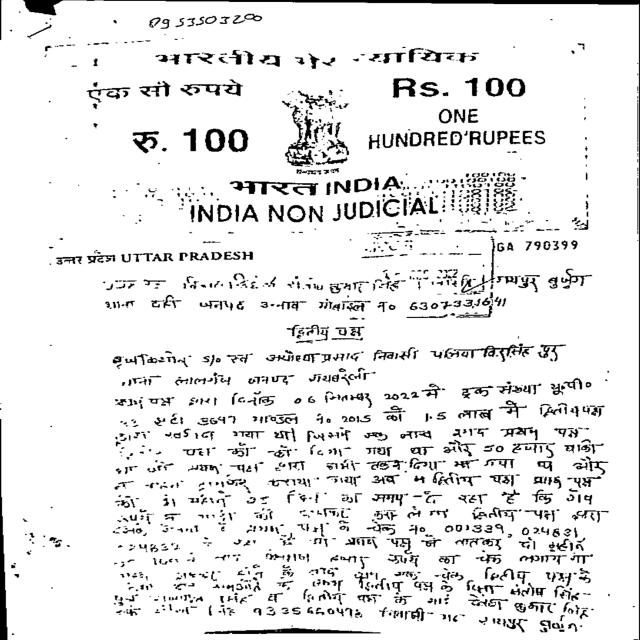afidivitstamp: (46, 46, 590, 231)
